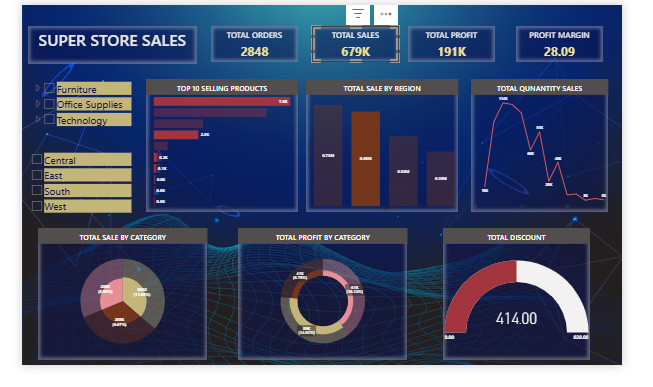

The dashboard page shown, as its layout file describes it:
{"tool":"powerbi","page":{"name":"Page 1","canvas":[2000,1200],"ordinal":0},"visuals":[{"type":"card","title":"TOTAL SALES","fields":{"Values":["Sample - Superstore.Total_sale"]},"box":[965,70,290,120],"z":0},{"type":"card","title":"TOTAL PROFIT","fields":{"Values":["Sample - Superstore.TOTALPROFIT"]},"box":[1285,70,290,120],"z":1000},{"type":"card","title":"TOTAL ORDERS","fields":{"Values":["Sample - Superstore.TOTAL ORDERS"]},"box":[630,70,290,120],"z":2000},{"type":"columnChart","title":"TOTAL SALE BY REGION","fields":{"Y":["Sum(Sample - Superstore. Sales )"],"Category":["Sample - Superstore.Region"]},"box":[945,245,507.5,442.5],"z":3000},{"type":"pieChart","title":"TOTAL SALE BY CATEGORY","fields":{"Category":["Sample - Superstore.Category"],"Y":["Sum(Sample - Superstore. Sales )"]},"box":[52.5,742.5,565,440],"z":4000},{"type":"lineChart","title":"TOTAL QUNANTITY SALES","fields":{"Category":["Sample - Superstore.Quantity"],"Y":["Sum(Sample - Superstore. Sales )"]},"box":[1497.5,245,457.5,442.5],"z":5000},{"type":"slicer","fields":{"Values":["Sample - Superstore.Region"]},"box":[20,482.5,350,232.5],"z":6000},{"type":"textbox","title":"SUPER STORE SALES","box":[20,70,562.5,125],"z":7000},{"type":"barChart","title":"TOP 10 SELLING PRODUCTS","fields":{"Category":["Sample - Superstore.Product Name"],"Y":["Sum(Sample - Superstore. Sales )"]},"box":[412.5,245,507.5,442.5],"z":8000},{"type":"donutChart","title":"TOTAL PROFIT BY CATEGORY","fields":{"Category":["Sample - Superstore.Category"],"Y":["Sum(Sample - Superstore.Profit)"]},"box":[720,742.5,565,440],"z":9000},{"type":"slicer","fields":{"Values":["Sample - Superstore.Category","Sample - Superstore.Sub-Category"]},"box":[20,245,350,287.5],"z":10000},{"type":"gauge","title":"TOTAL DISCOUNT","fields":{"Y":["Sum(Sample - Superstore.Discount)"]},"box":[1402.5,742.5,490,440],"z":11000},{"type":"card","title":"PROFIT MARGIN","fields":{"Values":["Sample - Superstore.PROFIT MARGIN"]},"box":[1647.5,70,290,120],"z":12000}]}

Visuals, with their boxes in screenshot pixels (x1, y1, x2, y2), scaled from the page's 2000x1200 canvas onto the 653x387 screenshot:
"TOTAL SALES" card: box(315, 23, 410, 61)
"TOTAL PROFIT" card: box(420, 23, 514, 61)
"TOTAL ORDERS" card: box(206, 23, 300, 61)
"TOTAL SALE BY REGION" columnChart: box(309, 79, 474, 222)
"TOTAL SALE BY CATEGORY" pieChart: box(17, 239, 202, 381)
"TOTAL QUNANTITY SALES" lineChart: box(489, 79, 638, 222)
slicer - Sample - Superstore.Region: box(7, 156, 121, 231)
"SUPER STORE SALES" textbox: box(7, 23, 190, 63)
"TOP 10 SELLING PRODUCTS" barChart: box(135, 79, 300, 222)
"TOTAL PROFIT BY CATEGORY" donutChart: box(235, 239, 420, 381)
slicer - Sample - Superstore.Category x Sample - Superstore.Sub-Category: box(7, 79, 121, 172)
"TOTAL DISCOUNT" gauge: box(458, 239, 618, 381)
"PROFIT MARGIN" card: box(538, 23, 633, 61)
